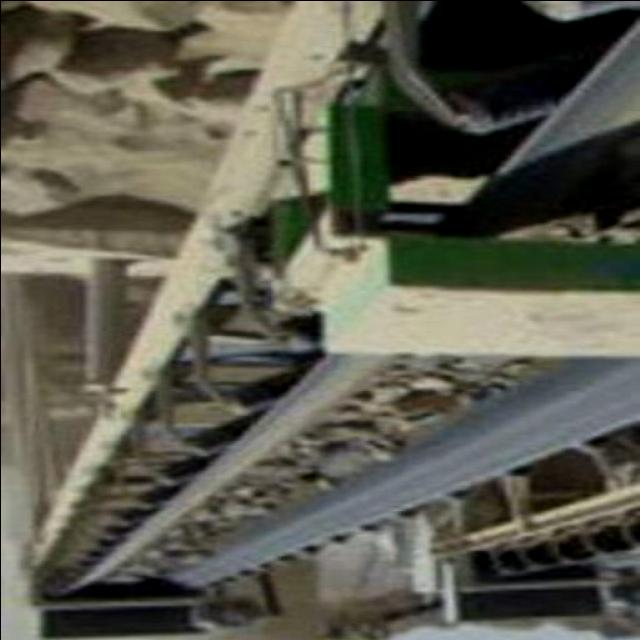conveyor: (62, 349, 640, 599)
